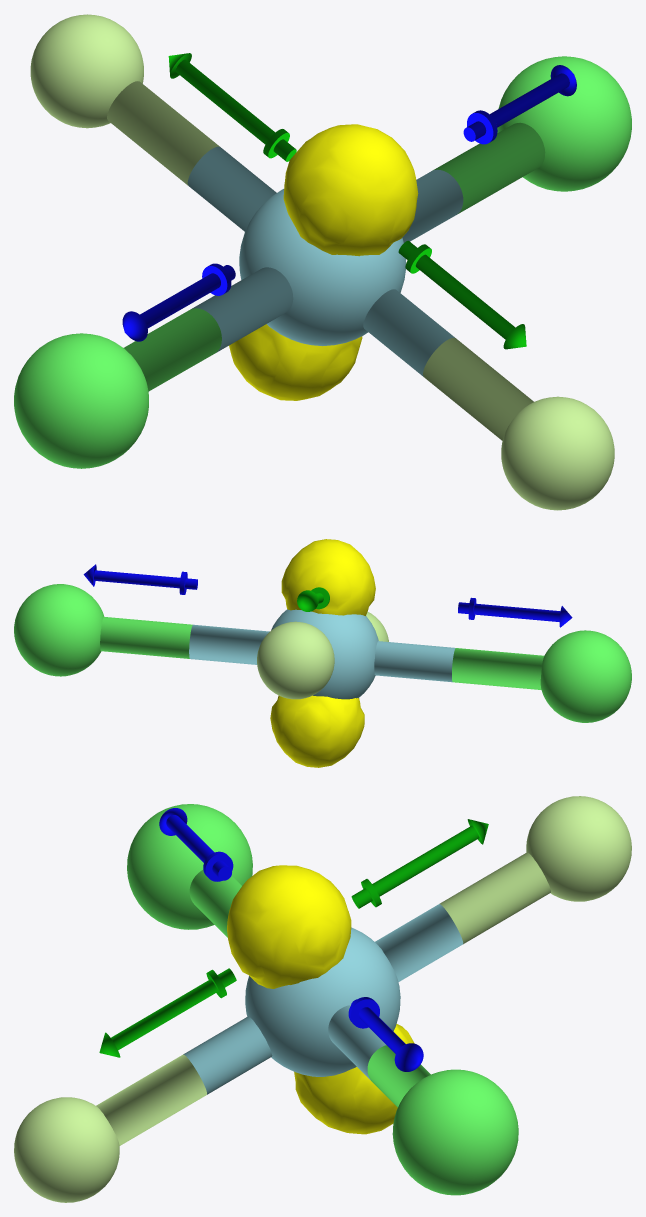
The model's file is demo2.glb.
3 renders of one model, top to bottom at view 1: azimuth 30°, elevation 25°; view 2: azimuth 150°, elevation 25°; view 3: azimuth 270°, elevation 25°, orthographic. The views are drawn at different scales.
Visible parts, largest first — view 1: trans-XeF2Cl2; view 2: trans-XeF2Cl2; view 3: trans-XeF2Cl2.
Part boxes in pixels (x1,y1,x2,y2): trans-XeF2Cl2: [14, 14, 631, 510]; trans-XeF2Cl2: [14, 539, 631, 767]; trans-XeF2Cl2: [14, 796, 631, 1202].
Bounding box in the file's own units: 5.1 × 2.17 × 3.95.
